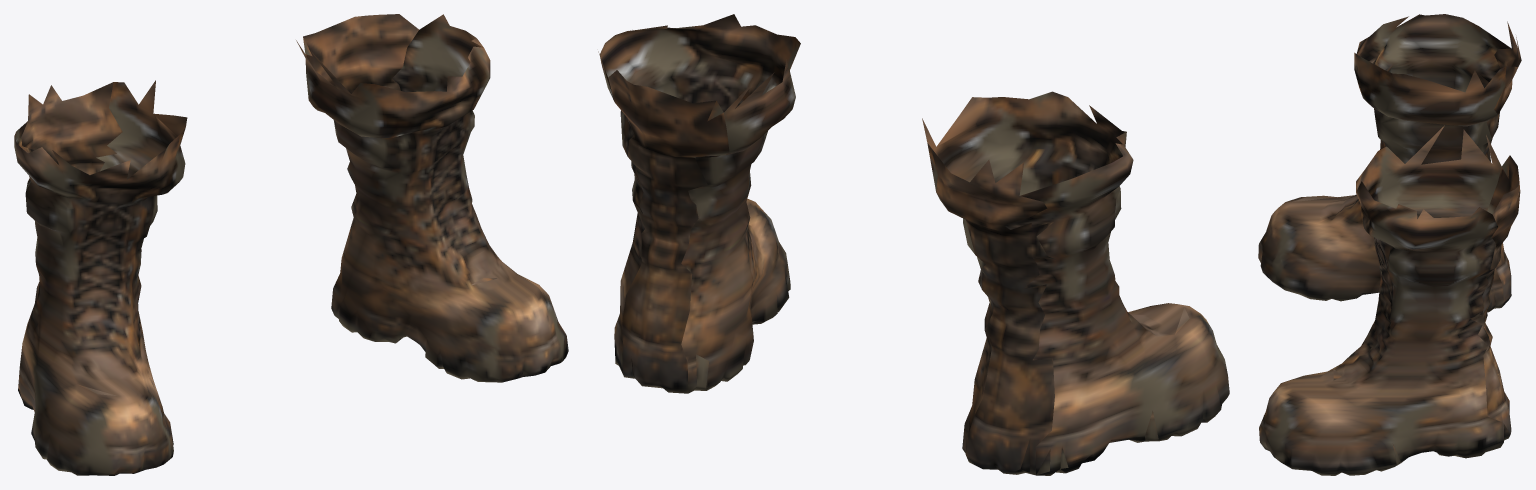
The model's file is feet.glb.
3 views of the same model, side by side, from view 1: azimuth 30°, elevation 25°; view 2: azimuth 150°, elevation 25°; view 3: azimuth 270°, elevation 25° (orthographic). The views are drawn at different scales.
Visible parts, largest first — view 1: Warden / feet / two-view proof; view 2: Warden / feet / two-view proof; view 3: Warden / feet / two-view proof.
Part boxes in pixels (x1,y1,x2,y2): Warden / feet / two-view proof: (14, 14, 568, 475); Warden / feet / two-view proof: (598, 14, 1229, 475); Warden / feet / two-view proof: (1258, 14, 1521, 475).
Size of the model in its own units: 0.7714 by 0.4303 by 0.3767.
Materials: 1 (1 with a texture image).
